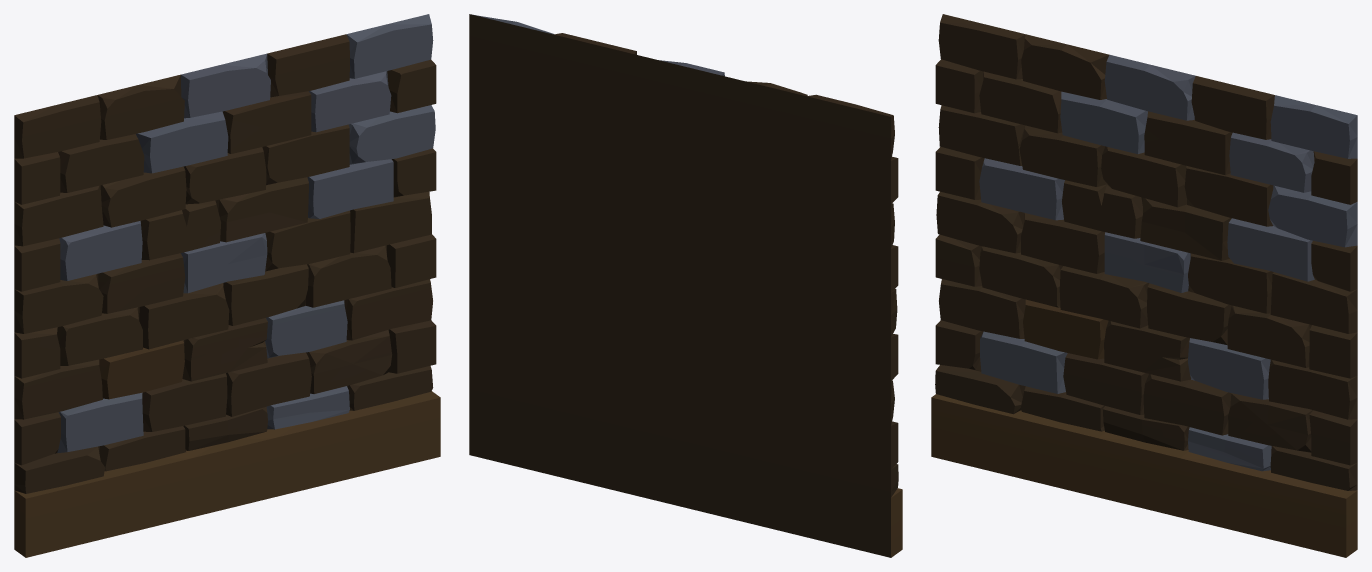
File: Wall_28.fbx
3 views of the same model, side by side, from view 1: azimuth 30°, elevation 25°; view 2: azimuth 150°, elevation 25°; view 3: azimuth 330°, elevation 25° (orthographic).
Parts seen in each view (by area): view 1: Wall_28; view 2: Wall_28; view 3: Wall_28.
Boxes of the visible parts, left/top/right/bottom form: Wall_28: left=14, top=14, right=440, bottom=557; Wall_28: left=469, top=14, right=902, bottom=557; Wall_28: left=931, top=14, right=1357, bottom=557.
Bounding box in the file's own units: 4 × 4 × 0.1939.
